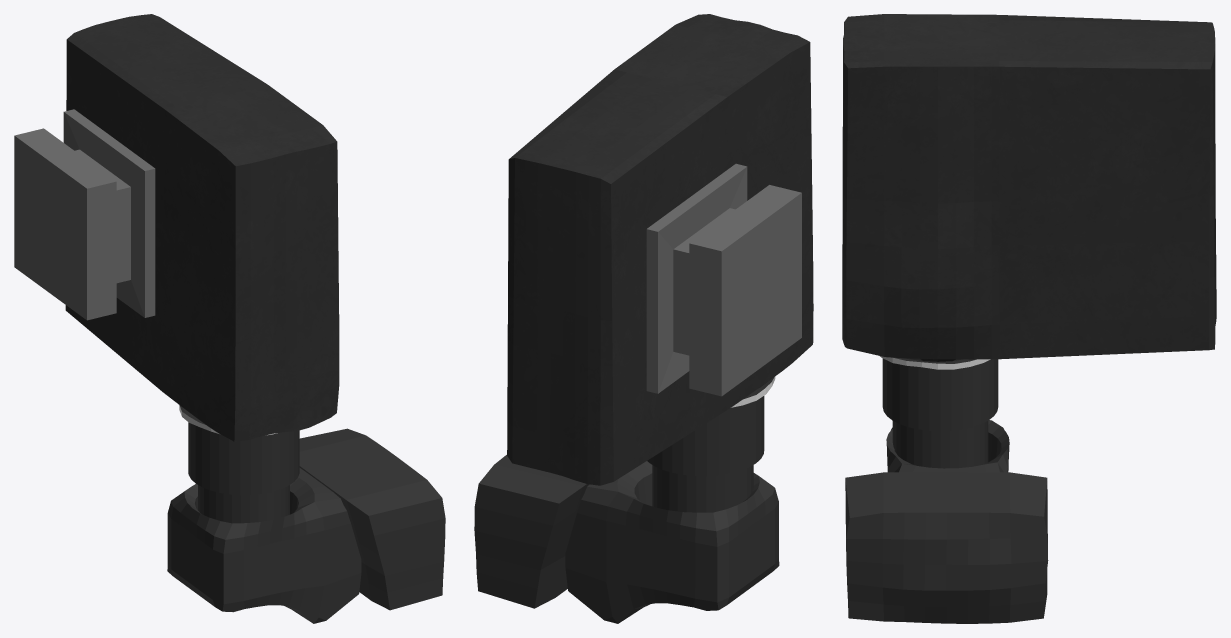
Rendered from Projector.fbx.
3 renders of one model, left to right at view 1: azimuth 30°, elevation 25°; view 2: azimuth 150°, elevation 25°; view 3: azimuth 270°, elevation 25°, orthographic. The views are drawn at different scales.
Visible parts, largest first — view 1: ProjectBase, ProjectorHolder.003, HeadOfExtededLens, Miror, Camera.005; view 2: ProjectBase, ProjectorHolder.003, HeadOfExtededLens, Miror, Camera.005; view 3: ProjectBase, Miror, Camera.005, HeadOfExtededLens.
Boxes of the visible parts, box(x1,y1,x2,y2) form: ProjectBase: box(65, 14, 339, 441); ProjectorHolder.003: box(14, 109, 155, 320); HeadOfExtededLens: box(167, 468, 361, 623); Miror: box(299, 428, 445, 610); Camera.005: box(188, 422, 299, 523); ProjectBase: box(507, 14, 813, 485); ProjectorHolder.003: box(646, 163, 801, 396); HeadOfExtededLens: box(565, 461, 779, 623); Miror: box(474, 455, 589, 608); Camera.005: box(647, 396, 764, 512); ProjectBase: box(842, 14, 1216, 369); Miror: box(845, 472, 1048, 623); Camera.005: box(882, 358, 998, 468); HeadOfExtededLens: box(886, 420, 1009, 472).
Bounding box in the file's own units: 25.05 × 41.36 × 27.12.
5 materials, 1 textured.
